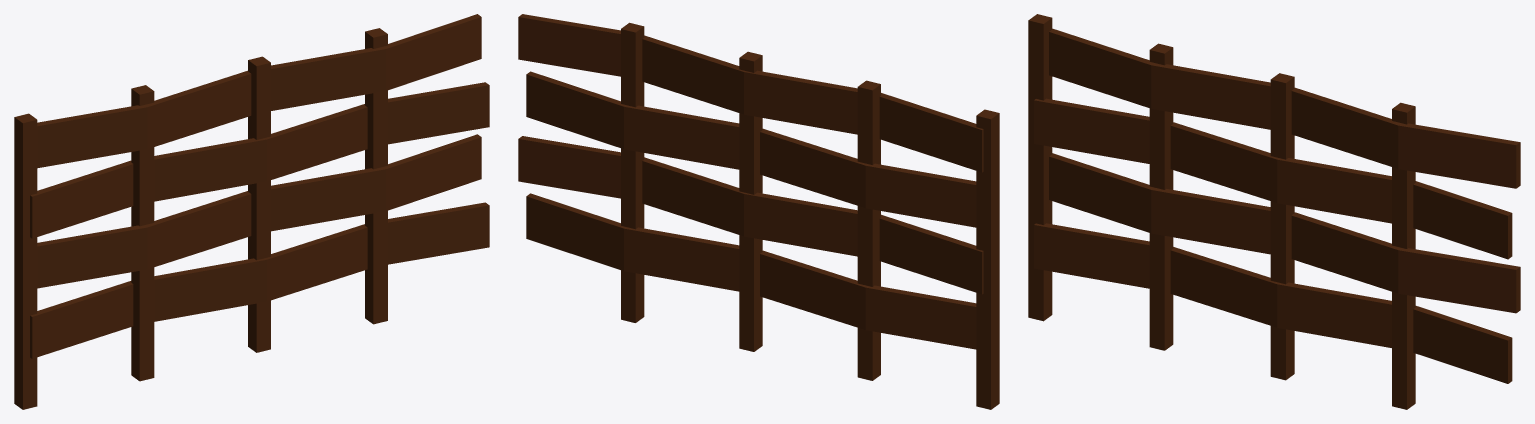
Rendered from Fence02.fbx.
3 renders of one model, left to right at view 1: azimuth 30°, elevation 25°; view 2: azimuth 150°, elevation 25°; view 3: azimuth 330°, elevation 25°, orthographic. The views are drawn at different scales.
Visible parts, largest first — view 1: Cube; view 2: Cube; view 3: Cube.
Boxes of the visible parts, <box> form: Cube: <box>14,14,489,409</box>; Cube: <box>518,14,999,409</box>; Cube: <box>1028,14,1520,409</box>.
Size of the model in its own units: 204 by 120 by 10.39.
